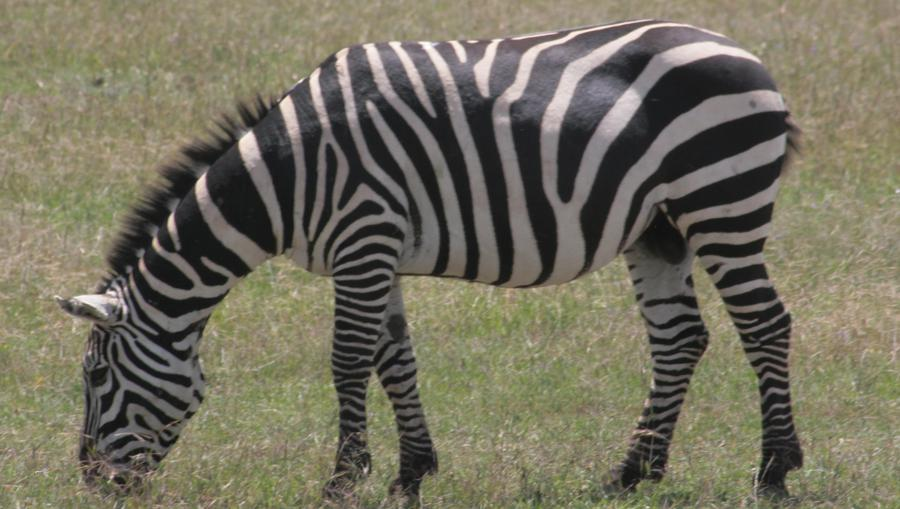zebra_plains: (284, 35, 790, 247)
